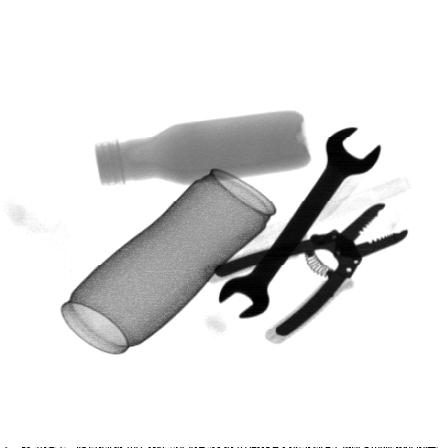Pliers: (201, 200, 409, 346)
Wrench: (217, 126, 384, 319)
